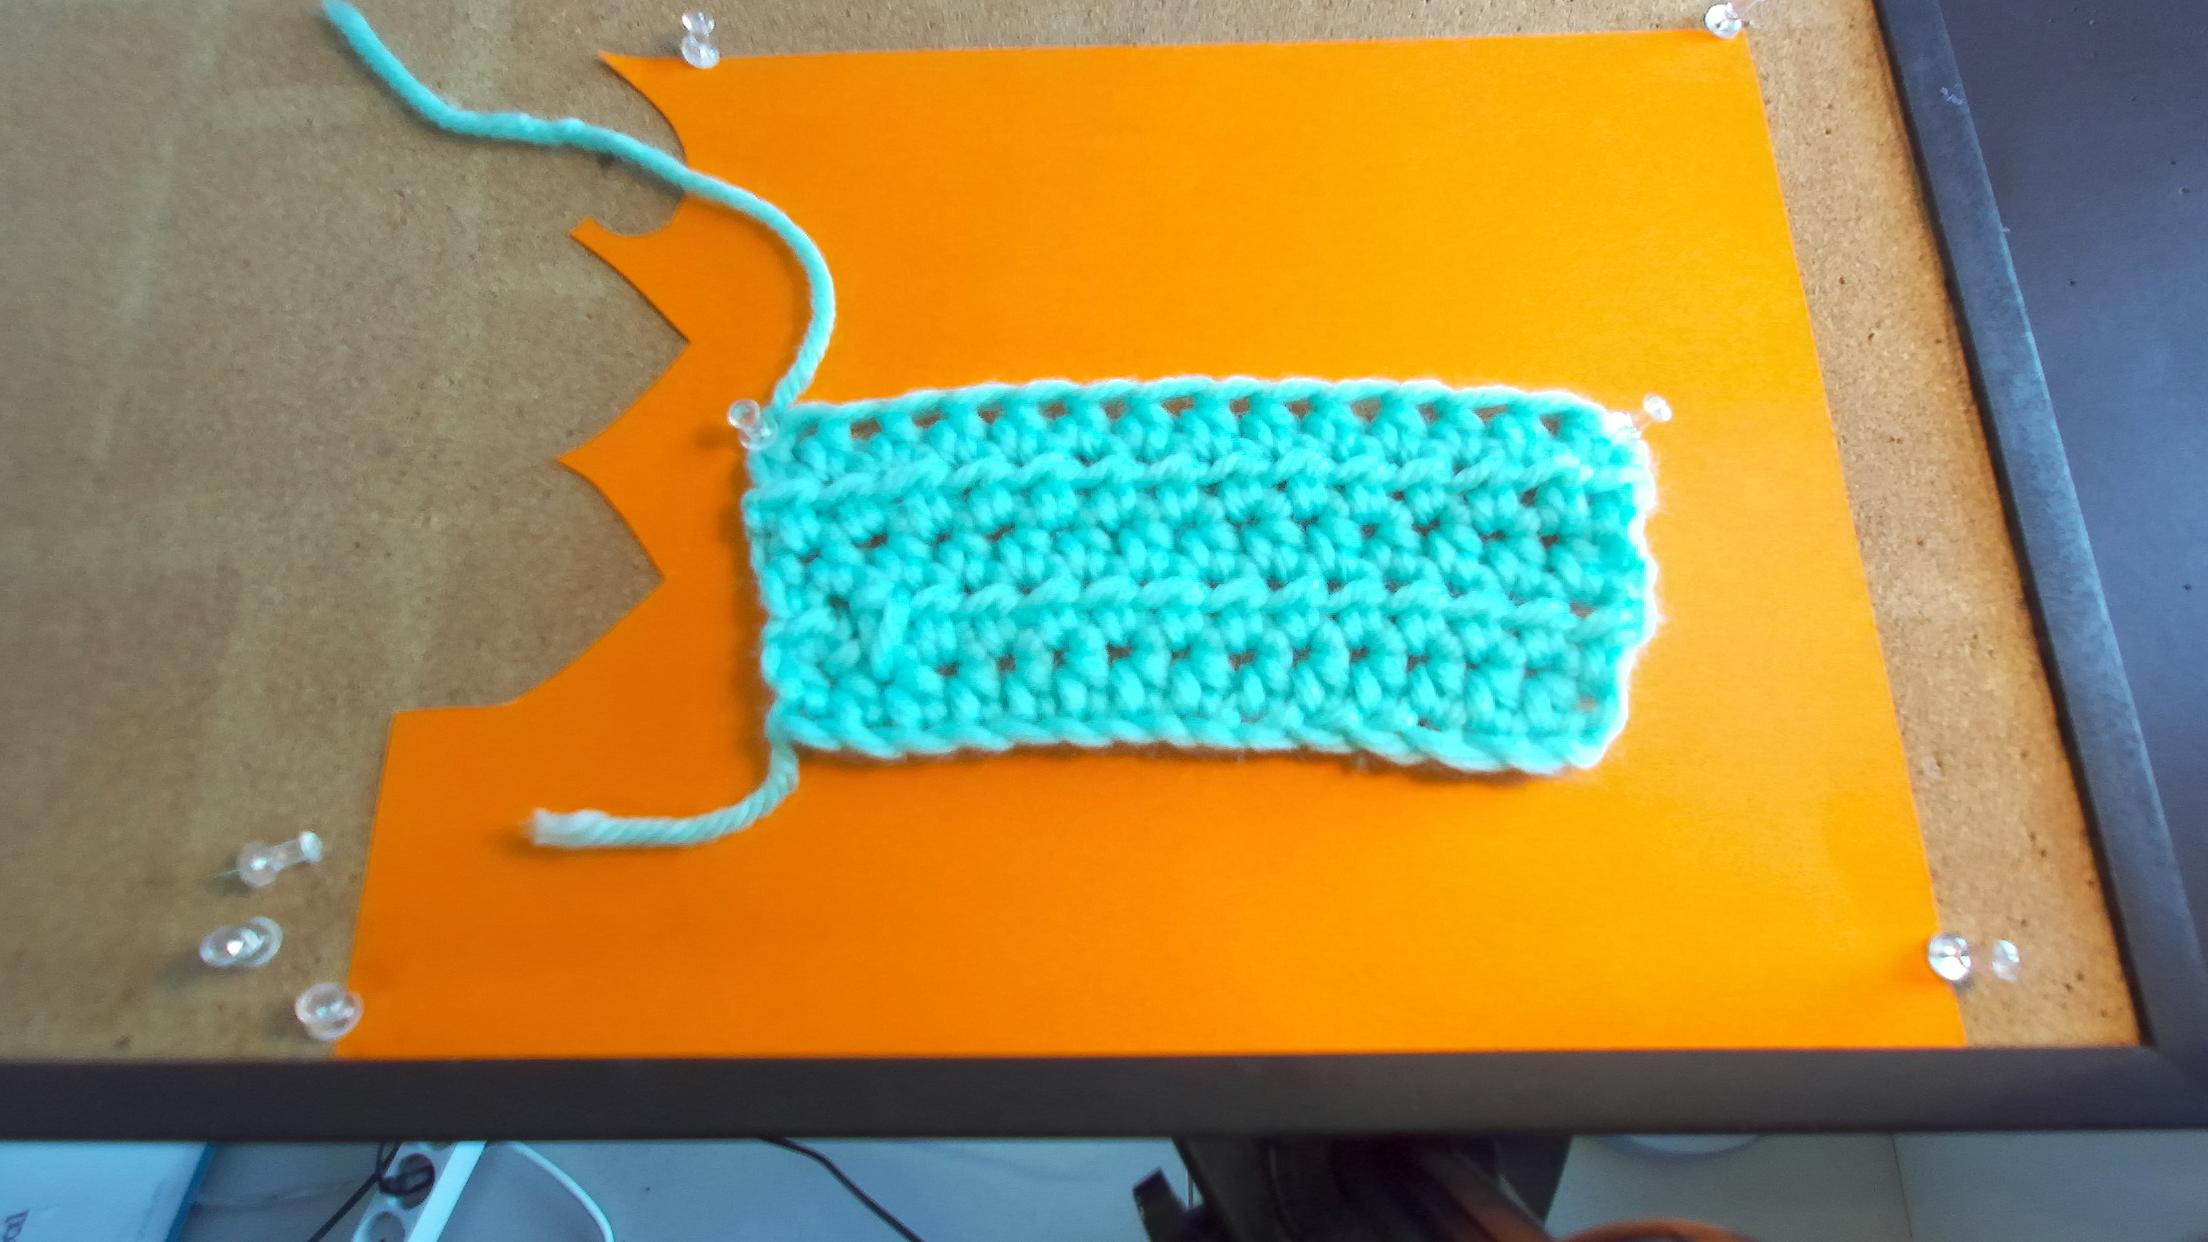hole: (1341, 393, 1385, 422), (1466, 402, 1510, 425), (849, 414, 884, 441), (1278, 397, 1313, 422), (1410, 403, 1441, 428), (1535, 412, 1565, 437), (911, 408, 945, 429), (792, 419, 819, 444), (1160, 396, 1192, 417), (1037, 400, 1071, 420), (1101, 397, 1127, 422), (975, 405, 1002, 426), (1230, 396, 1248, 414)
swatch: (735, 381, 1662, 779)
